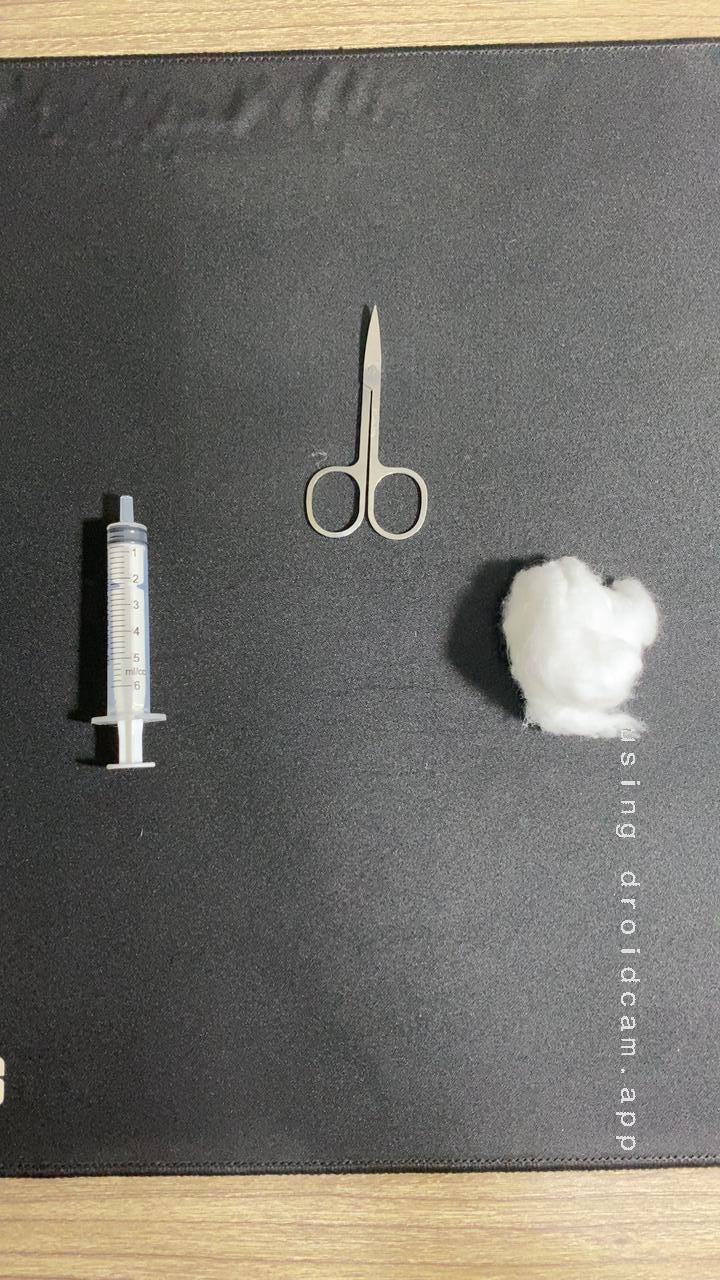cotton: (464, 532, 692, 753)
scissor: (284, 292, 445, 552)
syringe: (53, 486, 194, 785)
